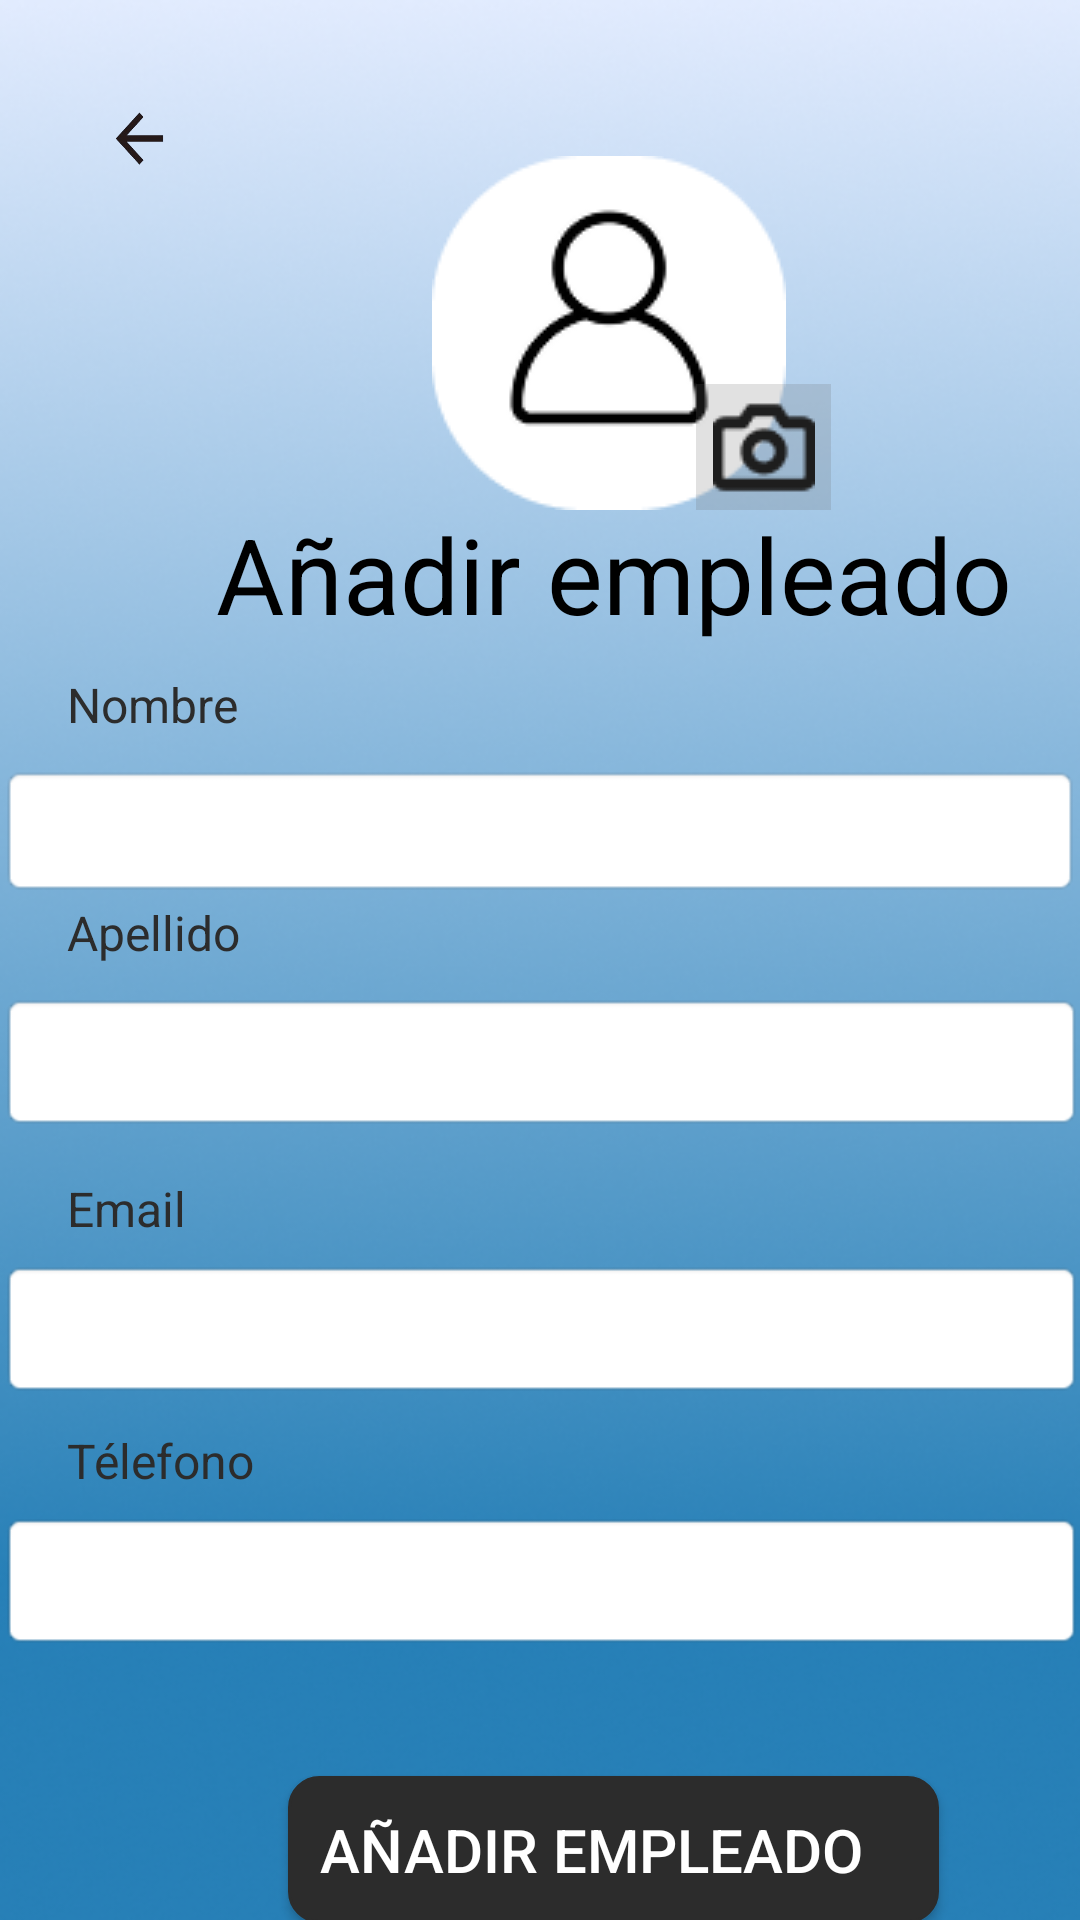

Icon bounding boxes for this 1080×1920 phone screenshot, format {"left": x1, "top": y1, "right": x2, "bottom": y2}:
flecha atras negra: {"left": 116, "top": 112, "right": 163, "bottom": 165}
